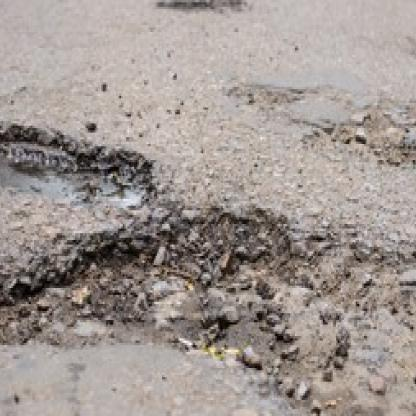pothole: (0, 203, 416, 416), (0, 121, 156, 210), (302, 107, 416, 176), (228, 80, 310, 117), (156, 0, 249, 16)
